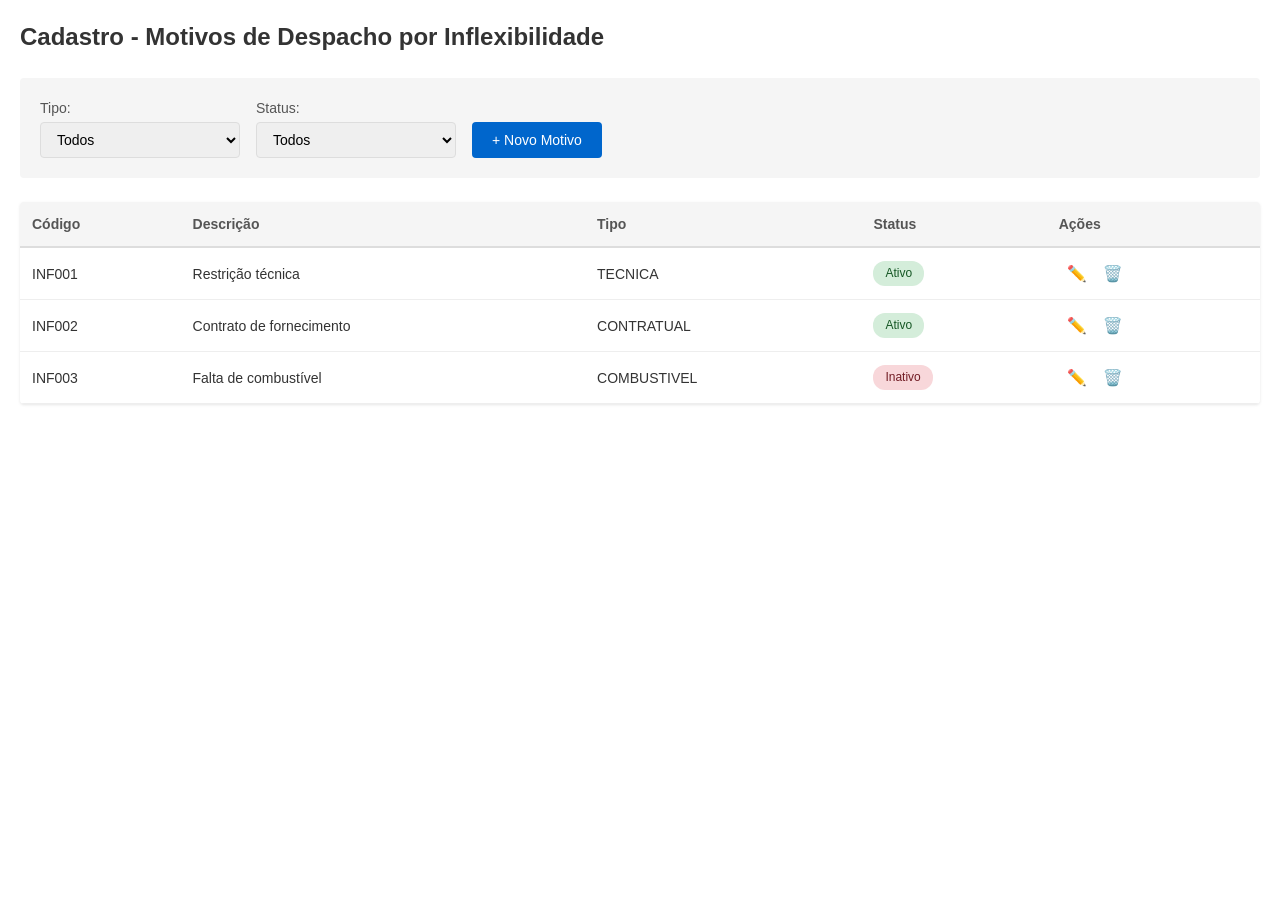
Test case: InflexibilityDispatchReason Component › Diálogo de Criação/Edição › deve abrir diálogo ao clicar em Novo Motivo
This screenshot has width=1280, height=900.
Click the button with test id "btn-novo-motivo": (537, 140) [472,122,602,158]
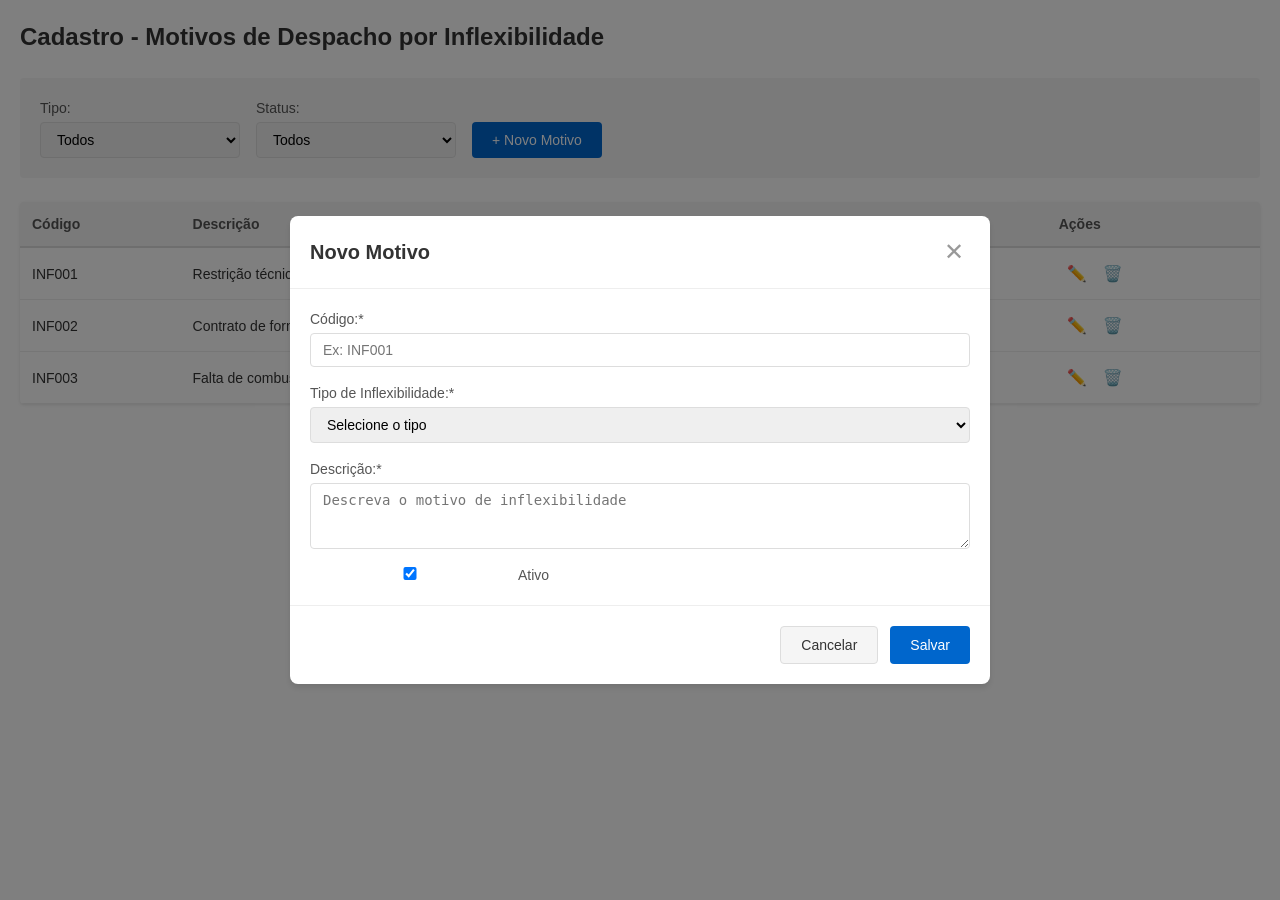
Expected: the element with test id "dialog-form" is shown
Expected: the heading "Novo Motivo" is shown, [310,238,430,266]
